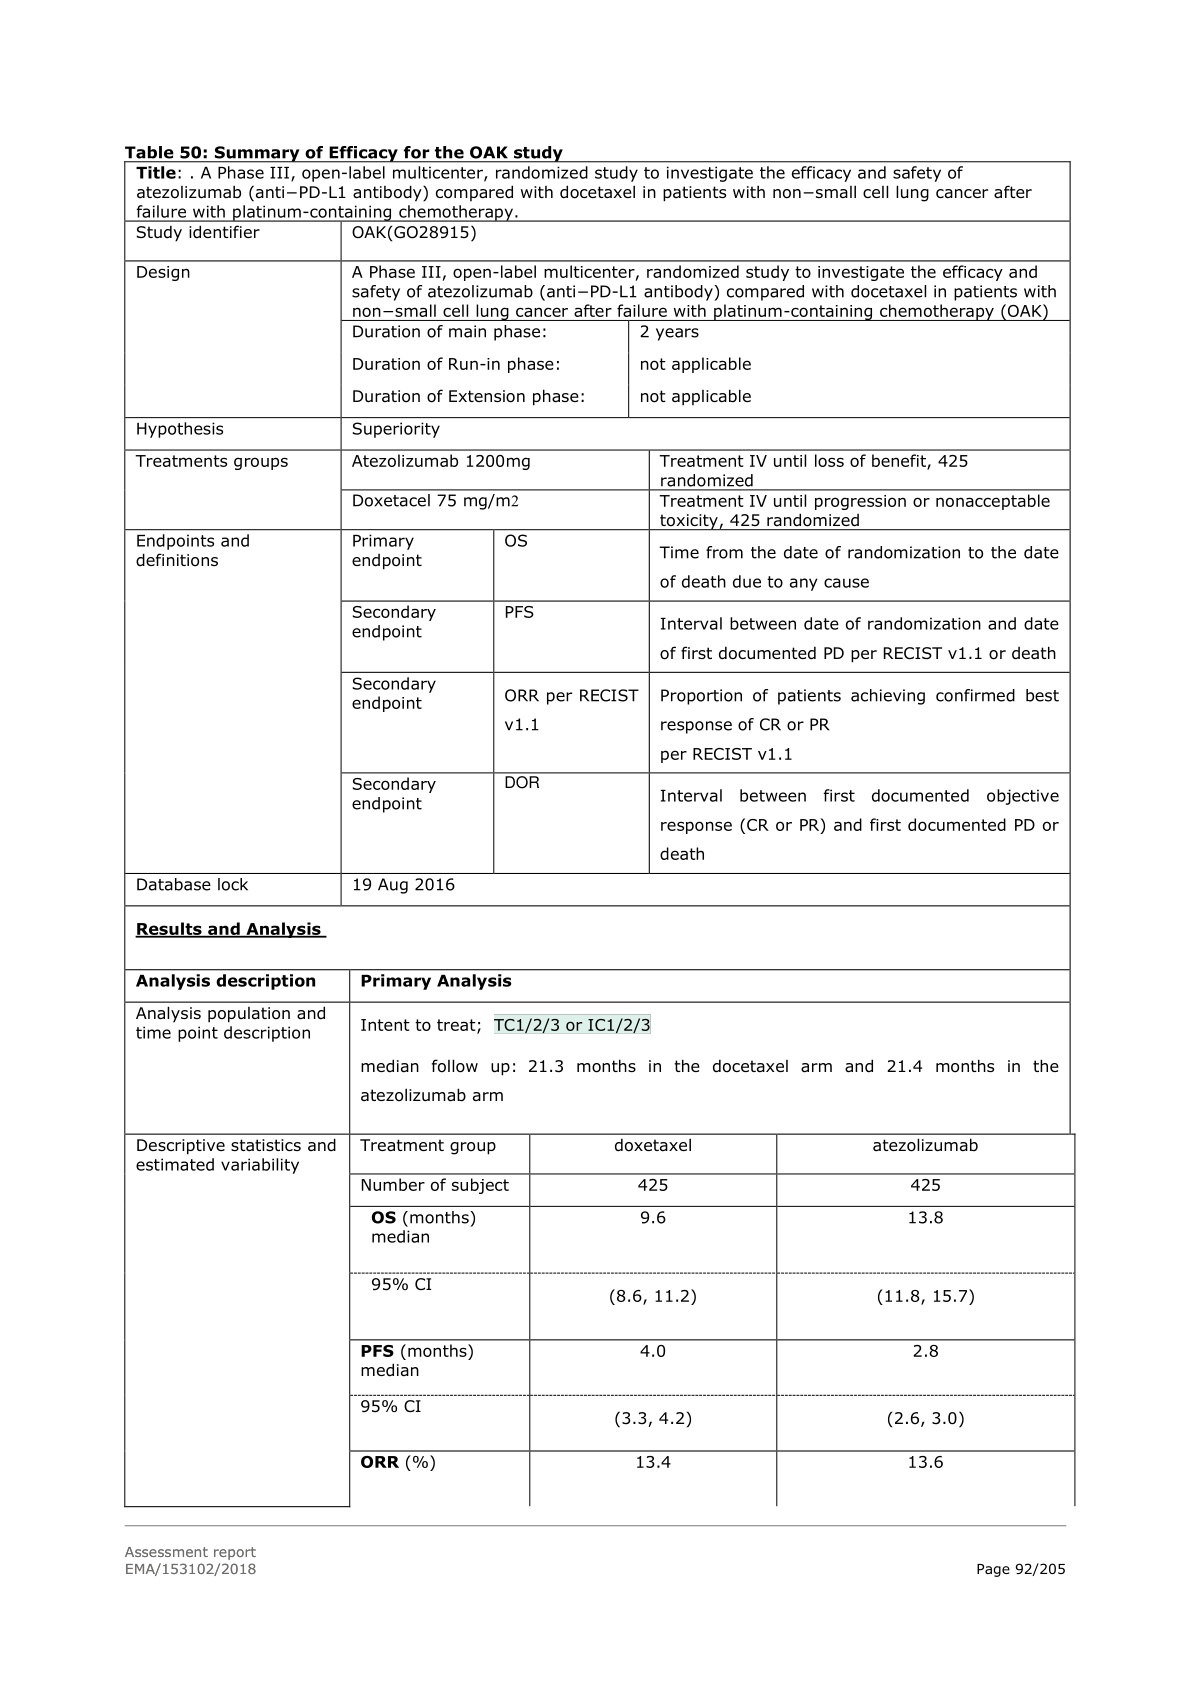partial_lined_merged_cells: (121, 161, 1078, 1507)
